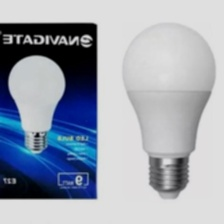book: (0, 13, 103, 202)
light_bulb: (119, 19, 219, 203)
